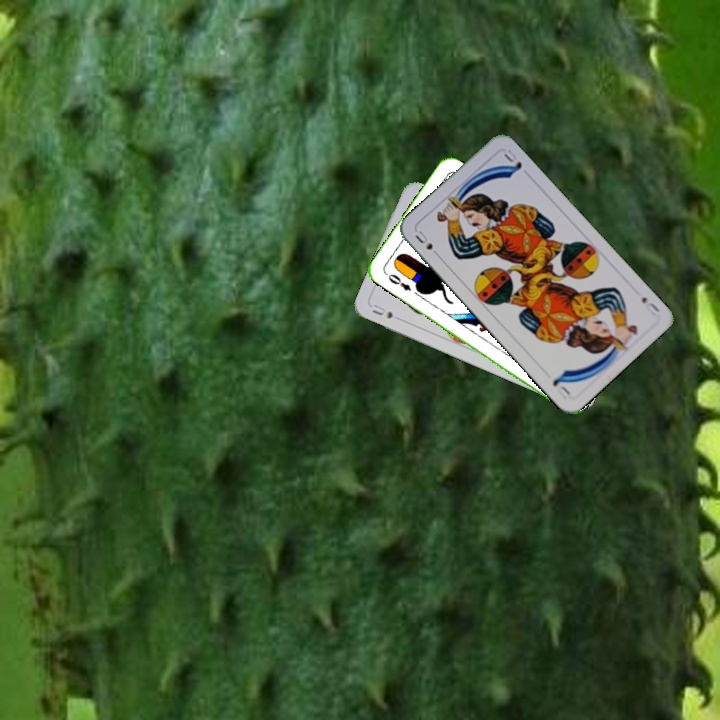EO: (381, 268, 414, 294)
SU: (411, 226, 443, 260), (637, 293, 662, 318), (368, 300, 396, 321)
